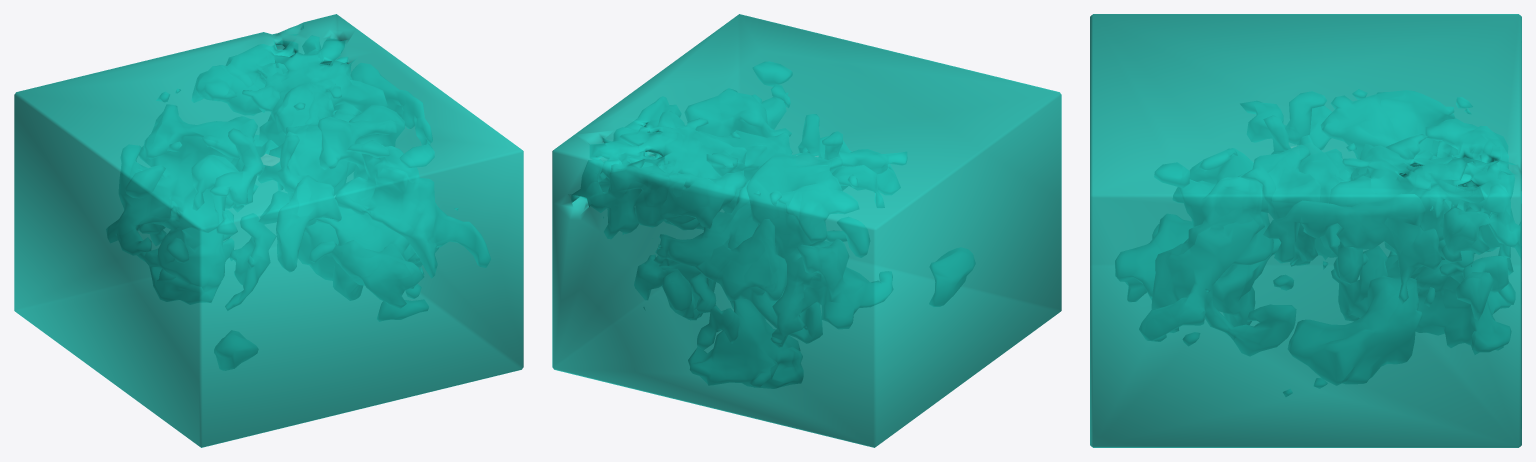
The picture shows the model from 3 angles, left to right: view 1: azimuth 30°, elevation 25°; view 2: azimuth 150°, elevation 25°; view 3: azimuth 270°, elevation 25°; orthographic projection. The views are drawn at different scales.
Visible parts, largest first — view 1: Liquid_Domain; view 2: Liquid_Domain; view 3: Liquid_Domain.
Part boxes in pixels (bbox=[...]): Liquid_Domain: bbox=[14, 14, 523, 447]; Liquid_Domain: bbox=[552, 14, 1061, 447]; Liquid_Domain: bbox=[1090, 14, 1521, 447].
Bounding box in the file's own units: 391 × 254 × 391.
